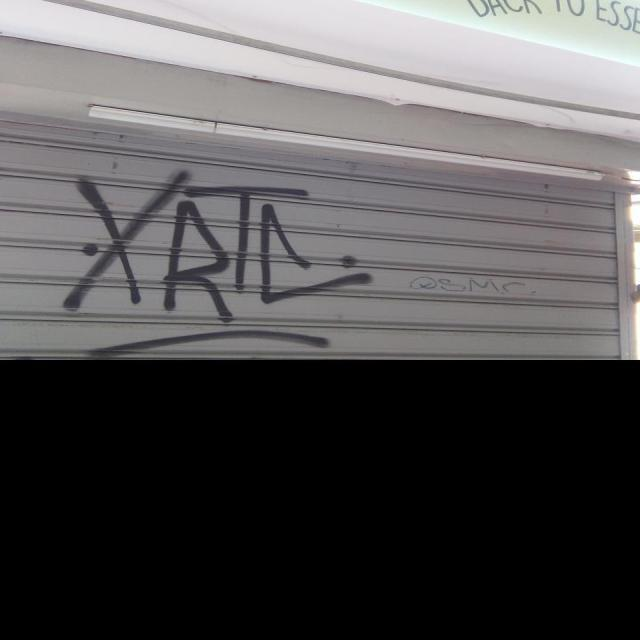nonspitting: (62, 171, 372, 361), (466, 0, 640, 33), (409, 274, 538, 298)
